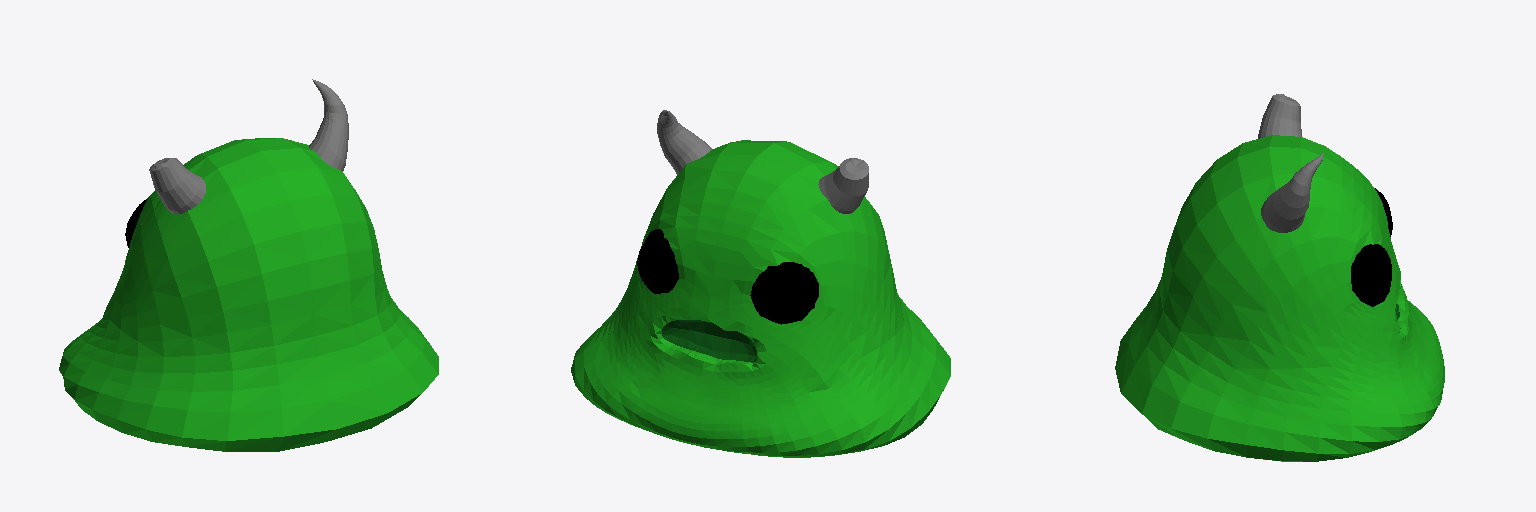
3 views of the same model, side by side, from view 1: azimuth 30°, elevation 25°; view 2: azimuth 150°, elevation 25°; view 3: azimuth 270°, elevation 25° (orthographic).
Visible parts, largest first — view 1: Swarm_Model; view 2: Swarm_Model; view 3: Swarm_Model.
Part boxes in pixels (left/top/right/bottom): Swarm_Model: left=59, top=79, right=438, bottom=451; Swarm_Model: left=571, top=110, right=950, bottom=457; Swarm_Model: left=1115, top=94, right=1444, bottom=461.
Bounding box in the file's own units: 10.23 × 8.52 × 8.99.
Materials: 1 (1 with a texture image).